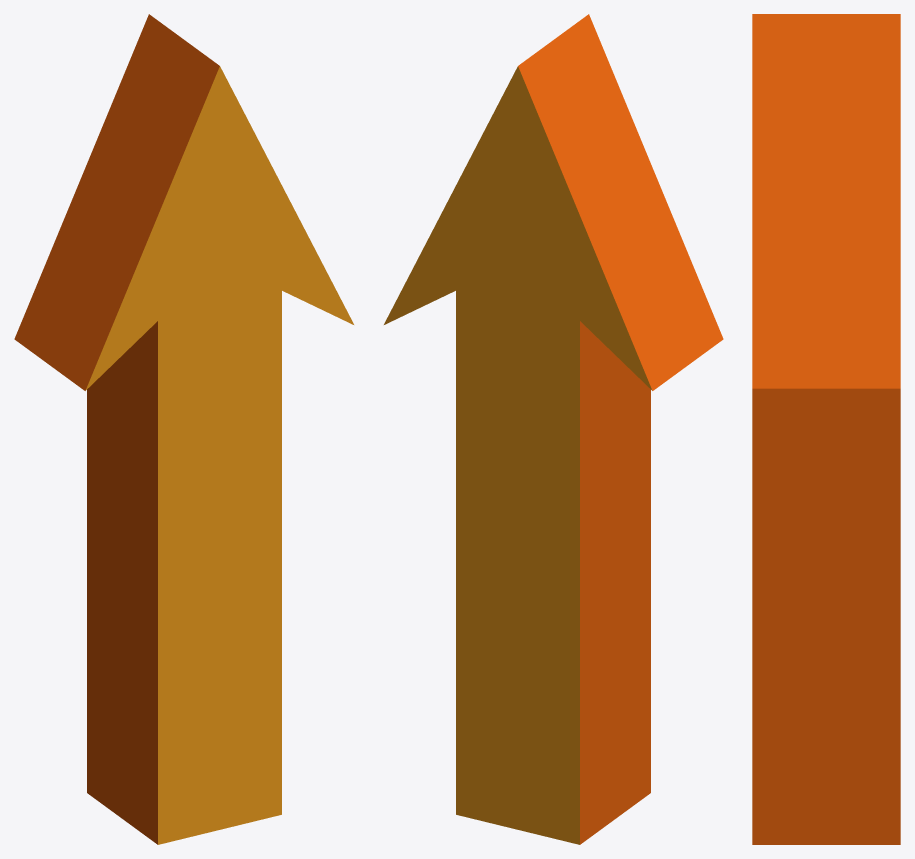
The model's file is Arrow.fbx.
The picture shows the model from 3 angles, left to right: view 1: azimuth 30°, elevation 25°; view 2: azimuth 150°, elevation 25°; view 3: azimuth 270°, elevation 25°; orthographic projection. The views are drawn at different scales.
Visible parts, largest first — view 1: Cube; view 2: Cube; view 3: Cube.
Part boxes in pixels (x1,y1,x2,y2): Cube: (14, 14, 353, 844); Cube: (384, 14, 723, 844); Cube: (752, 14, 900, 844).
Size of the model in its own units: 2052 by 5561 by 936.
